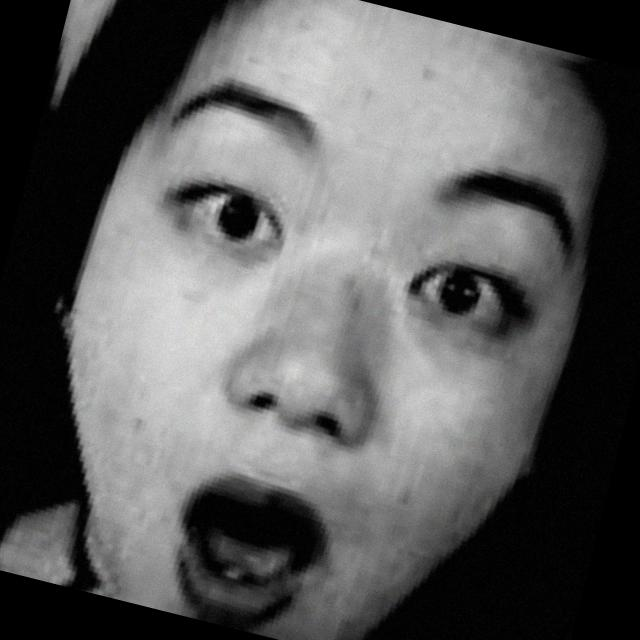surprise: (7, 0, 628, 640)
